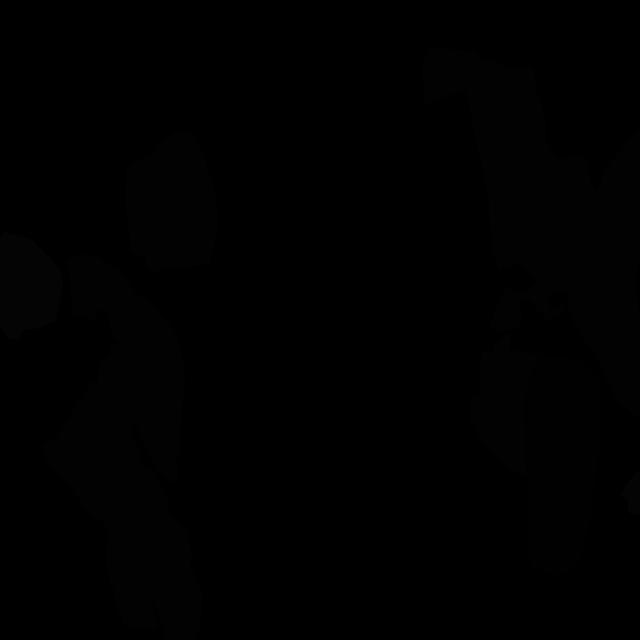cardboard: (42, 380, 203, 640), (65, 254, 186, 483), (488, 140, 640, 294), (422, 47, 546, 199), (125, 129, 218, 272), (567, 268, 640, 420), (470, 349, 538, 479), (489, 282, 566, 332), (597, 128, 640, 204), (492, 334, 512, 353)
rigid_plastic: (524, 355, 601, 575)
soft_plastic: (0, 232, 63, 341), (620, 470, 640, 515)
